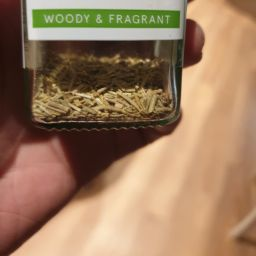Rosemary: (15, 8, 189, 155), (14, 49, 190, 140)
